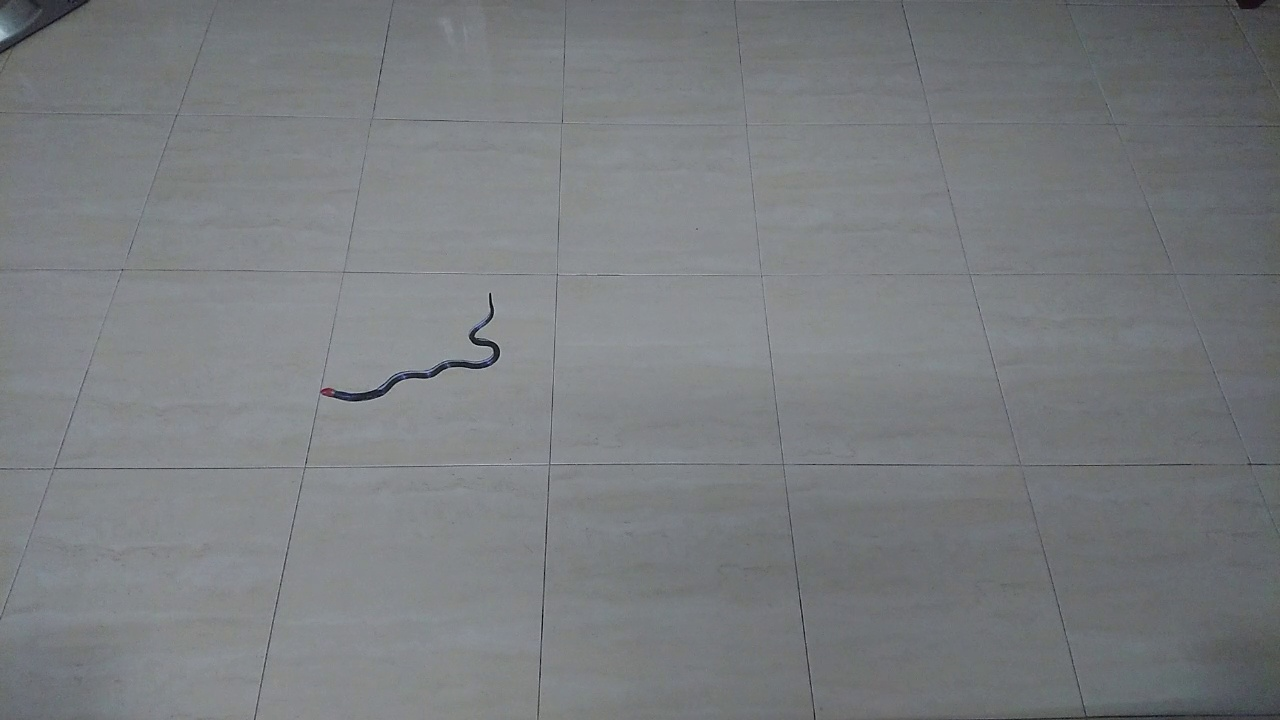snake: (305, 278, 524, 415)
